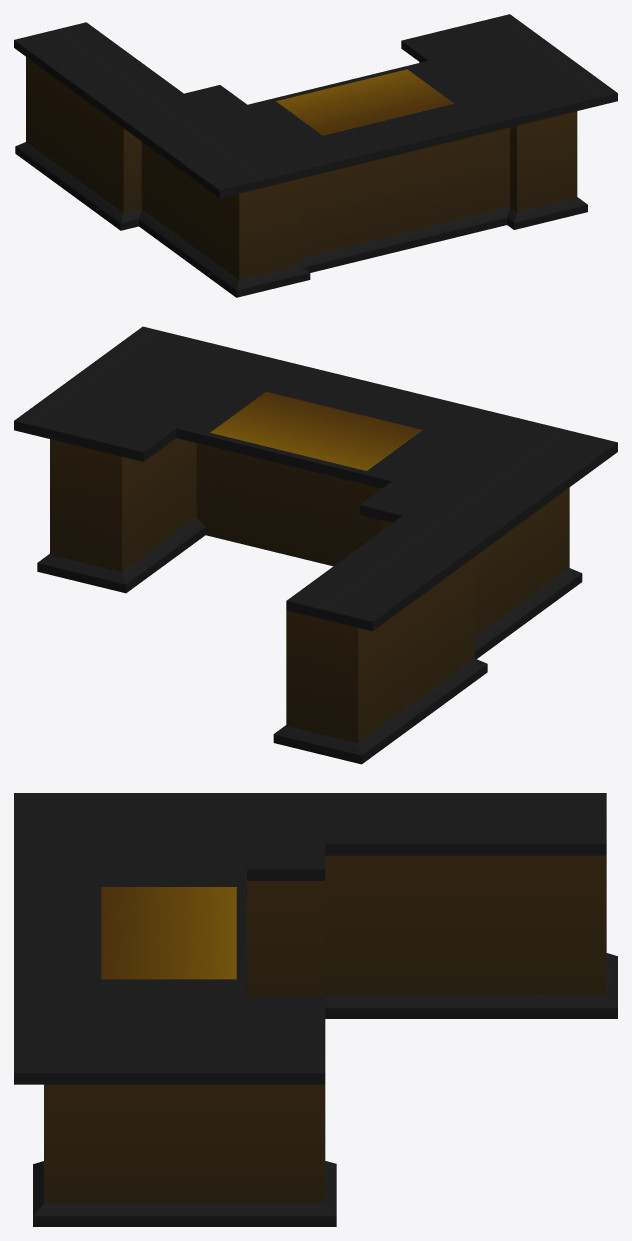
The model's file is ExecDesk.fbx.
3 renders of one model, top to bottom at view 1: azimuth 30°, elevation 25°; view 2: azimuth 150°, elevation 25°; view 3: azimuth 270°, elevation 25°, orthographic. The views are drawn at different scales.
Parts seen in each view (by area): view 1: ExecDesk; view 2: ExecDesk; view 3: ExecDesk.
Boxes of the visible parts, x1=… form: ExecDesk: x1=14, y1=14, x2=617, y2=297; ExecDesk: x1=14, y1=326, x2=617, y2=764; ExecDesk: x1=14, y1=793, x2=617, y2=1226.
Bounding box in the file's own units: 264 × 74.85 × 240.
